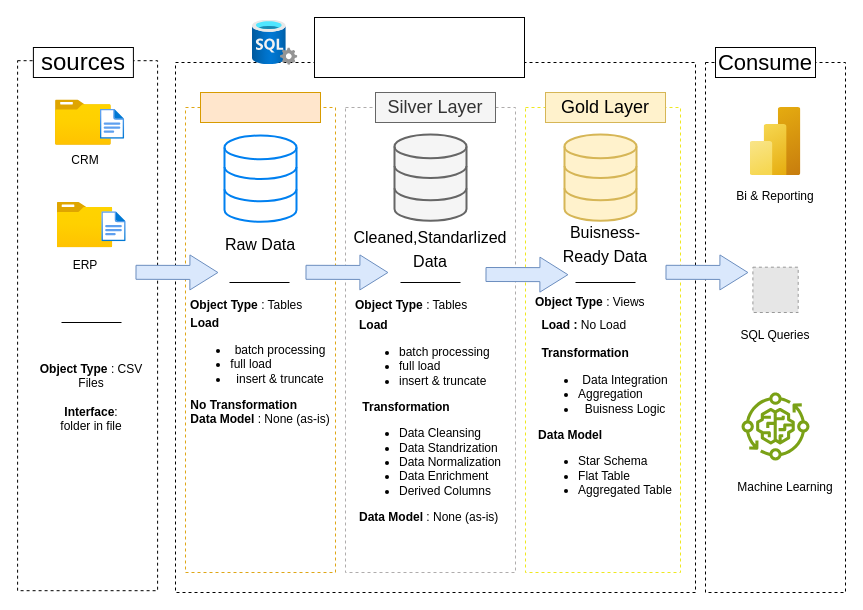
This 863x610 diagram has some shape labels left out. Grey dashed boxes stand in for pictures. Here are the shapes that lost their labels. From the top down, the centre of each, then its label:
the point at 419,47: DataWare House
the point at 260,107: Bronze Layer
